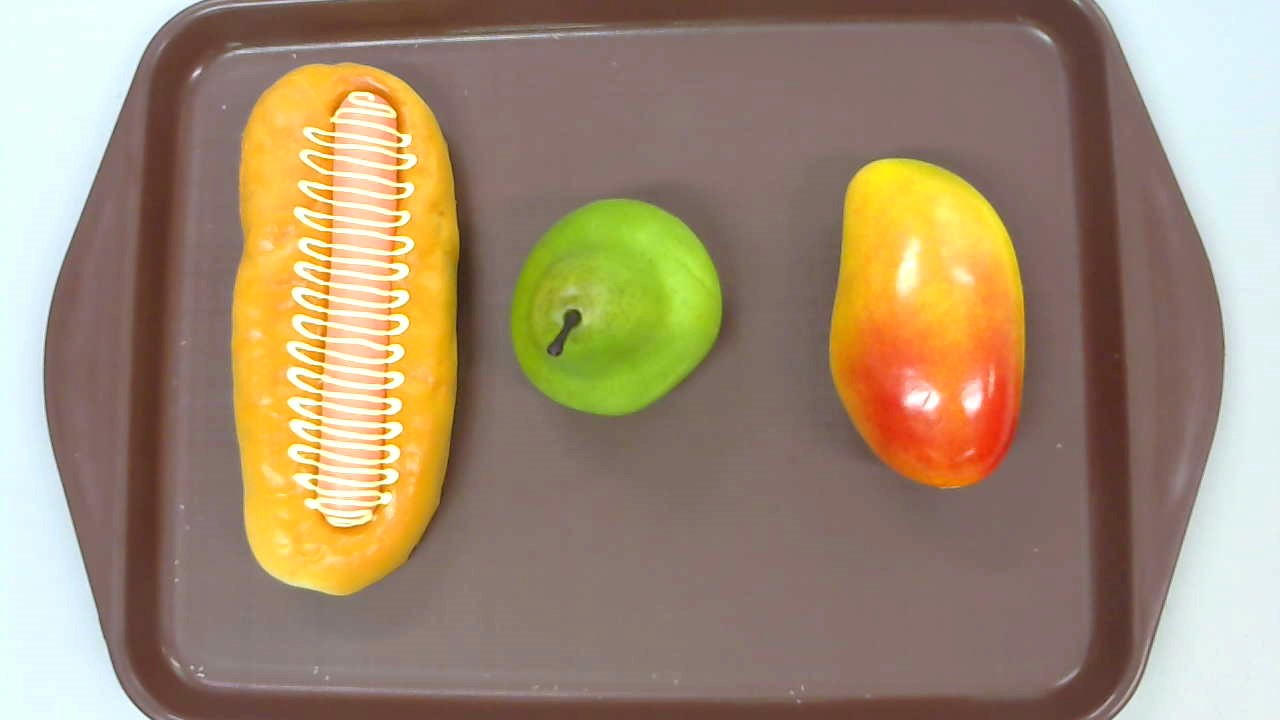green pear: (510, 198, 722, 416)
hot dog: (230, 62, 460, 592)
red mango: (828, 157, 1024, 489)
